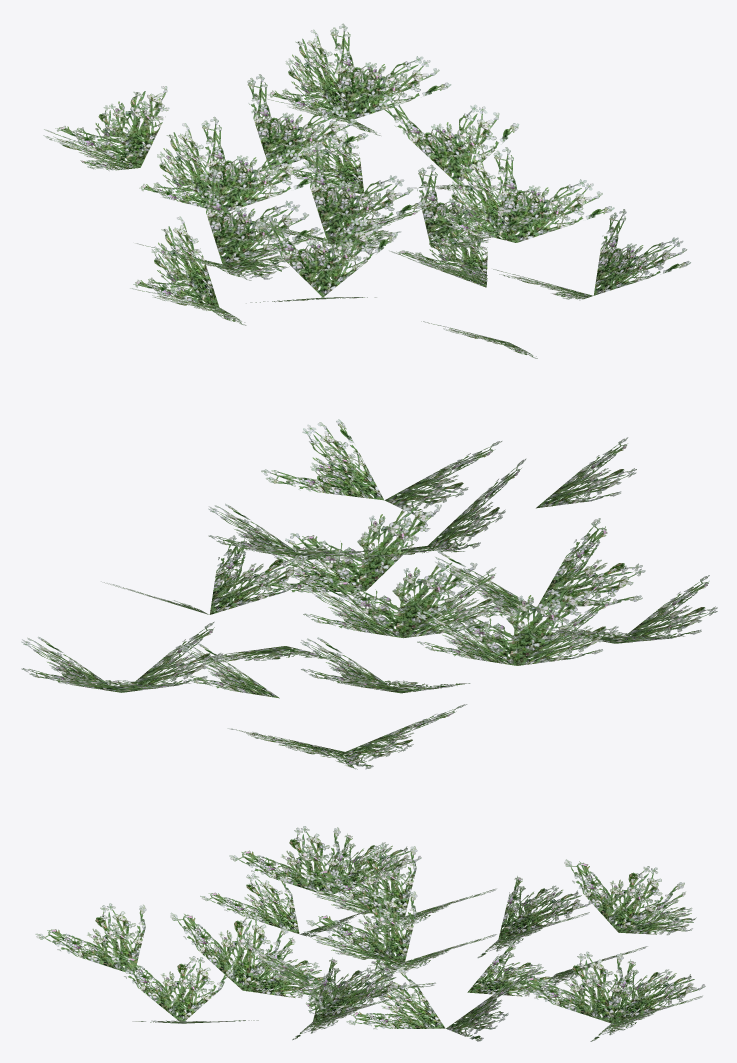
File: ptch_groundflowers_med_l1.fbx
3 renders of one model, top to bottom at view 1: azimuth 30°, elevation 25°; view 2: azimuth 150°, elevation 25°; view 3: azimuth 270°, elevation 25°, orthographic. The views are drawn at different scales.
Parts seen in each view (by area): view 1: mesh_node; view 2: mesh_node; view 3: mesh_node.
Boxes of the visible parts, x1,y1,x2,y2 form: mesh_node: [43, 23, 690, 358]; mesh_node: [21, 419, 717, 769]; mesh_node: [35, 826, 705, 1041].
Bounding box in the file's own units: 1.64 × 0.213 × 2.15.
Materials: 1 (1 with a texture image).
